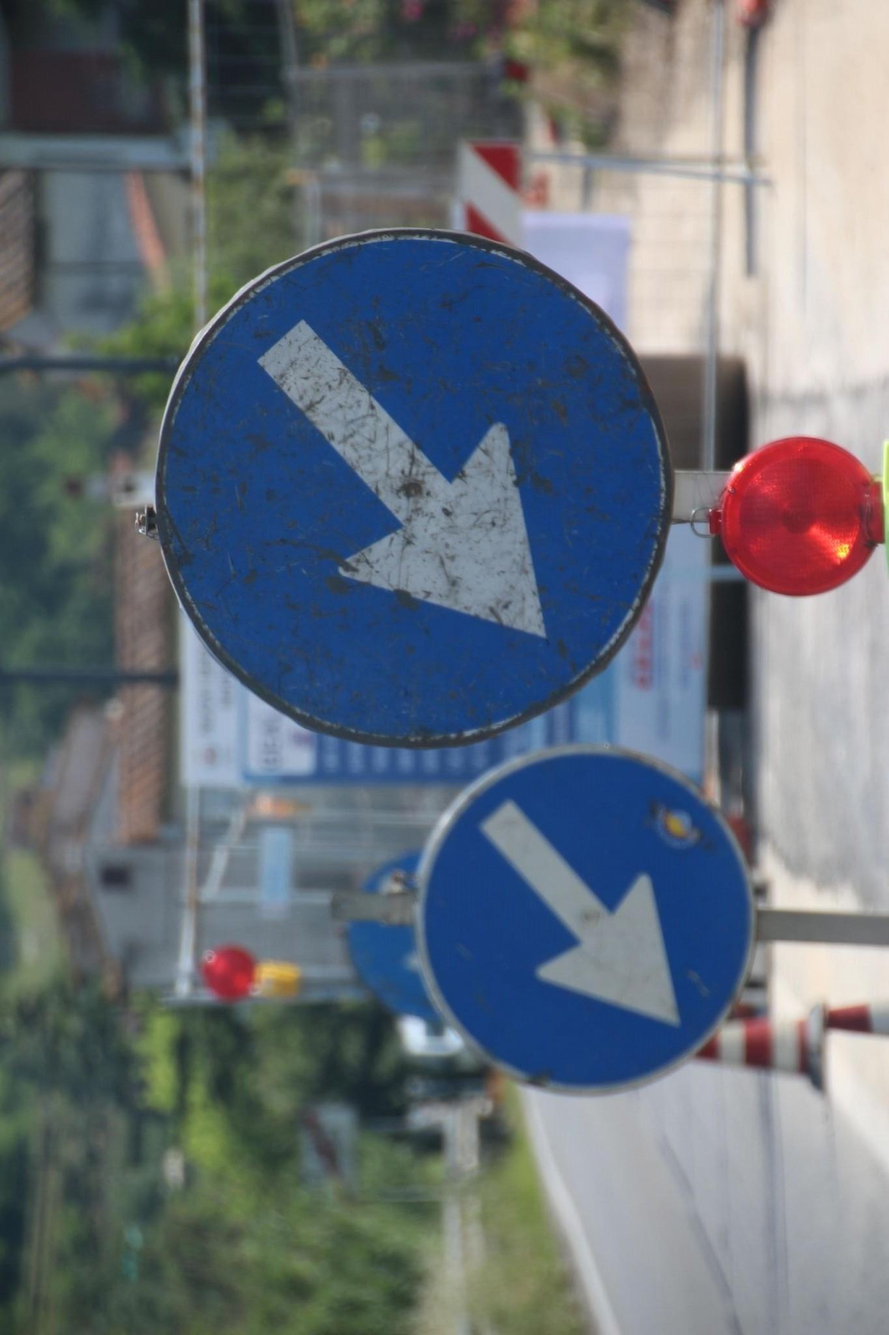obstructed_road_sign: (153, 226, 681, 752)
road_sign: (415, 743, 761, 1092), (457, 139, 526, 251)
